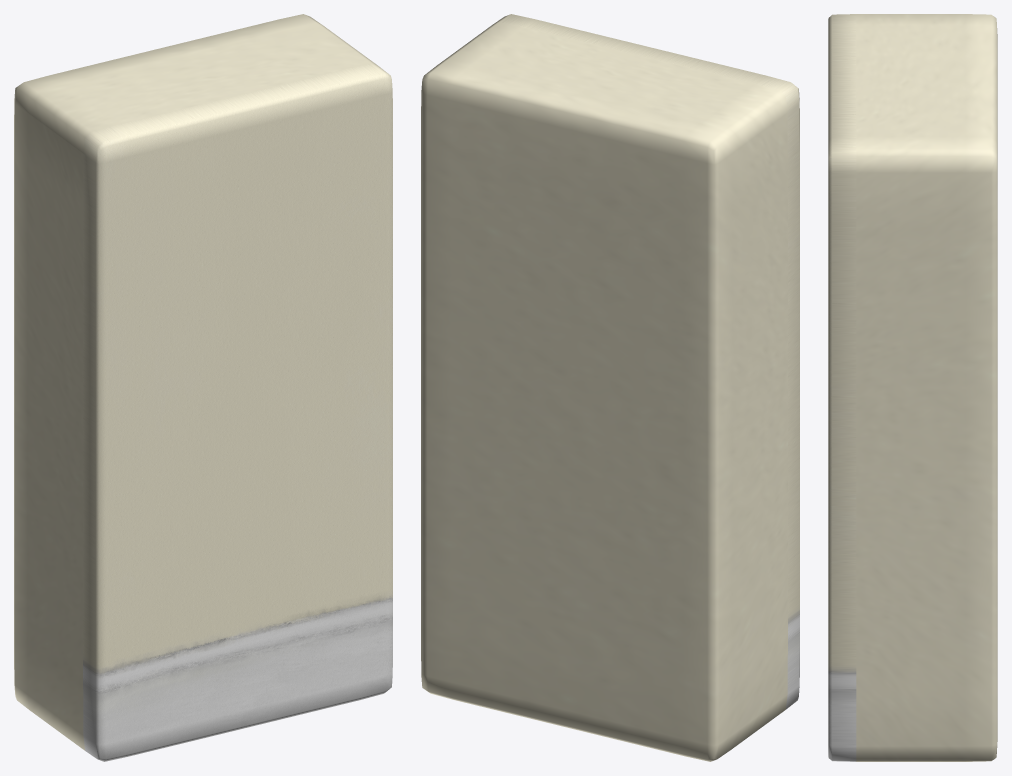
The model's file is KS_Wall_Dining_BedR_BathR.fbx.
3 renders of one model, left to right at view 1: azimuth 30°, elevation 25°; view 2: azimuth 150°, elevation 25°; view 3: azimuth 270°, elevation 25°, orthographic.
Parts seen in each view (by area): view 1: KS_Wall; view 2: KS_Wall; view 3: KS_Wall.
Part boxes in pixels (bbox=[...]): KS_Wall: bbox=[14, 14, 392, 761]; KS_Wall: bbox=[421, 14, 799, 761]; KS_Wall: bbox=[828, 14, 997, 761].
Size of the model in its own units: 100 by 200 by 50.
1 material, 1 textured.
